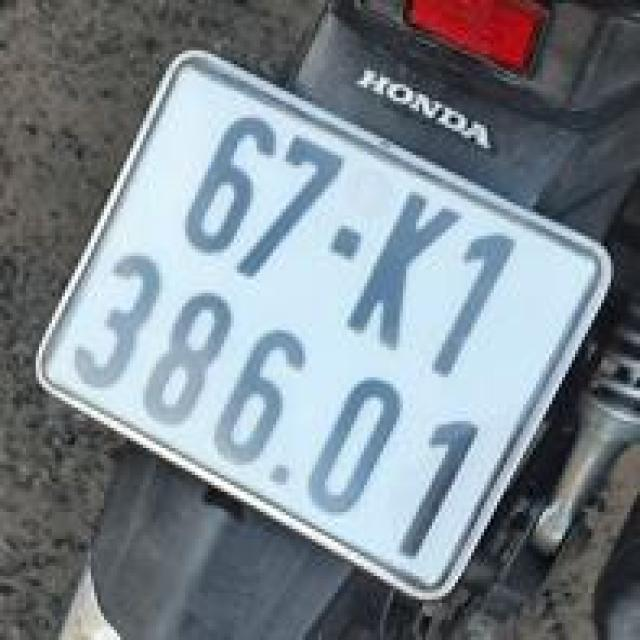0: (293, 362, 417, 530)
1: (380, 397, 498, 580), (417, 215, 534, 394)
3: (60, 236, 183, 404)
6: (197, 312, 322, 480), (170, 96, 289, 268)
7: (229, 124, 356, 301)
8: (123, 277, 248, 445)
K: (337, 177, 479, 362)
